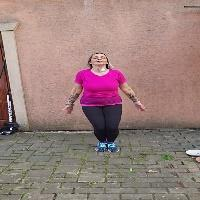high_jumps: (46, 42, 159, 164)
